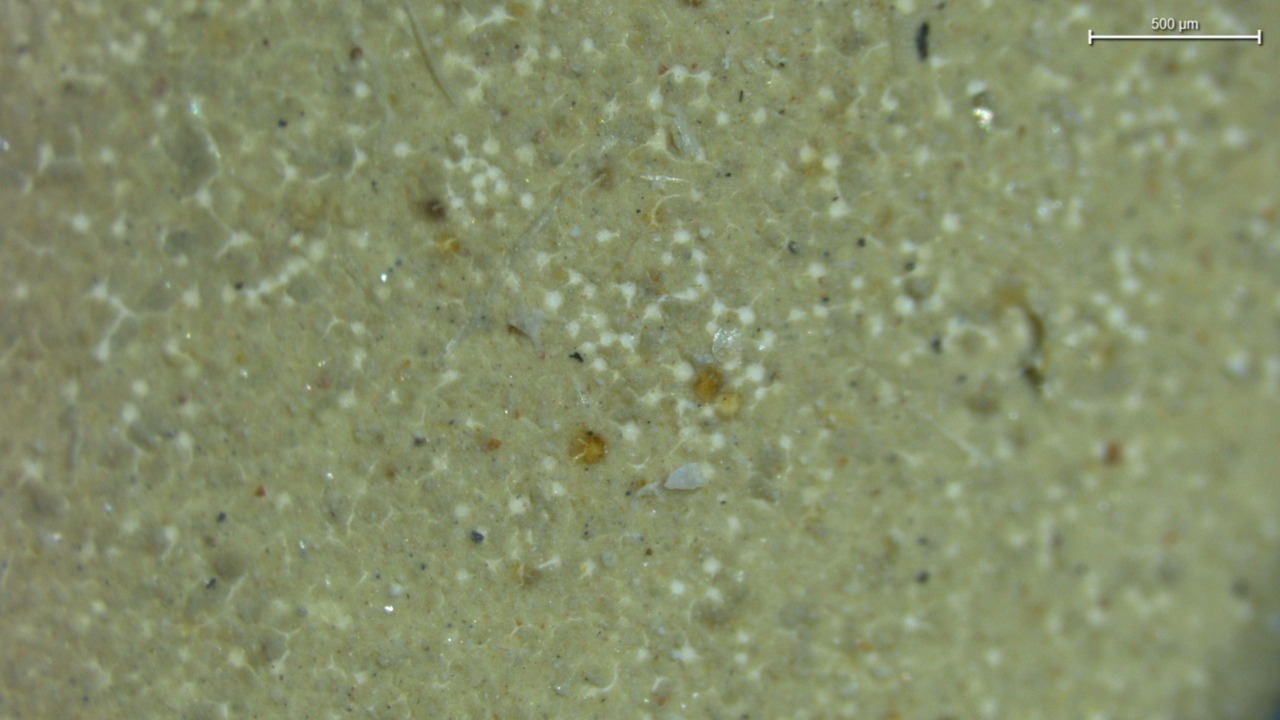microplastic_fragment: (509, 307, 545, 342), (664, 463, 707, 490)
